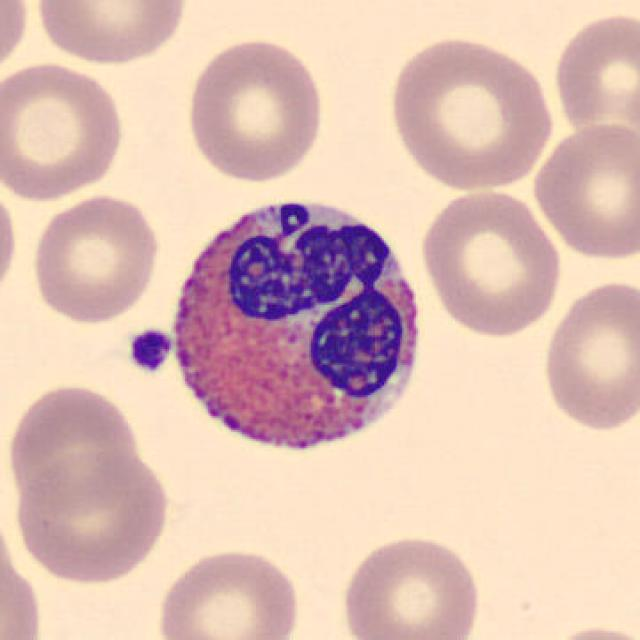Eosinophil: (157, 174, 436, 478)
Platelets: (124, 326, 174, 374)
RBC: (382, 32, 558, 194), (416, 184, 564, 340), (11, 446, 172, 587), (181, 34, 329, 185), (0, 56, 128, 205), (27, 190, 164, 326), (4, 379, 142, 511), (537, 274, 638, 436), (336, 530, 483, 640), (528, 118, 638, 263), (153, 543, 306, 640), (550, 7, 638, 141), (32, 0, 192, 67), (0, 515, 48, 638), (0, 176, 21, 308), (0, 0, 32, 83), (537, 620, 640, 640)
